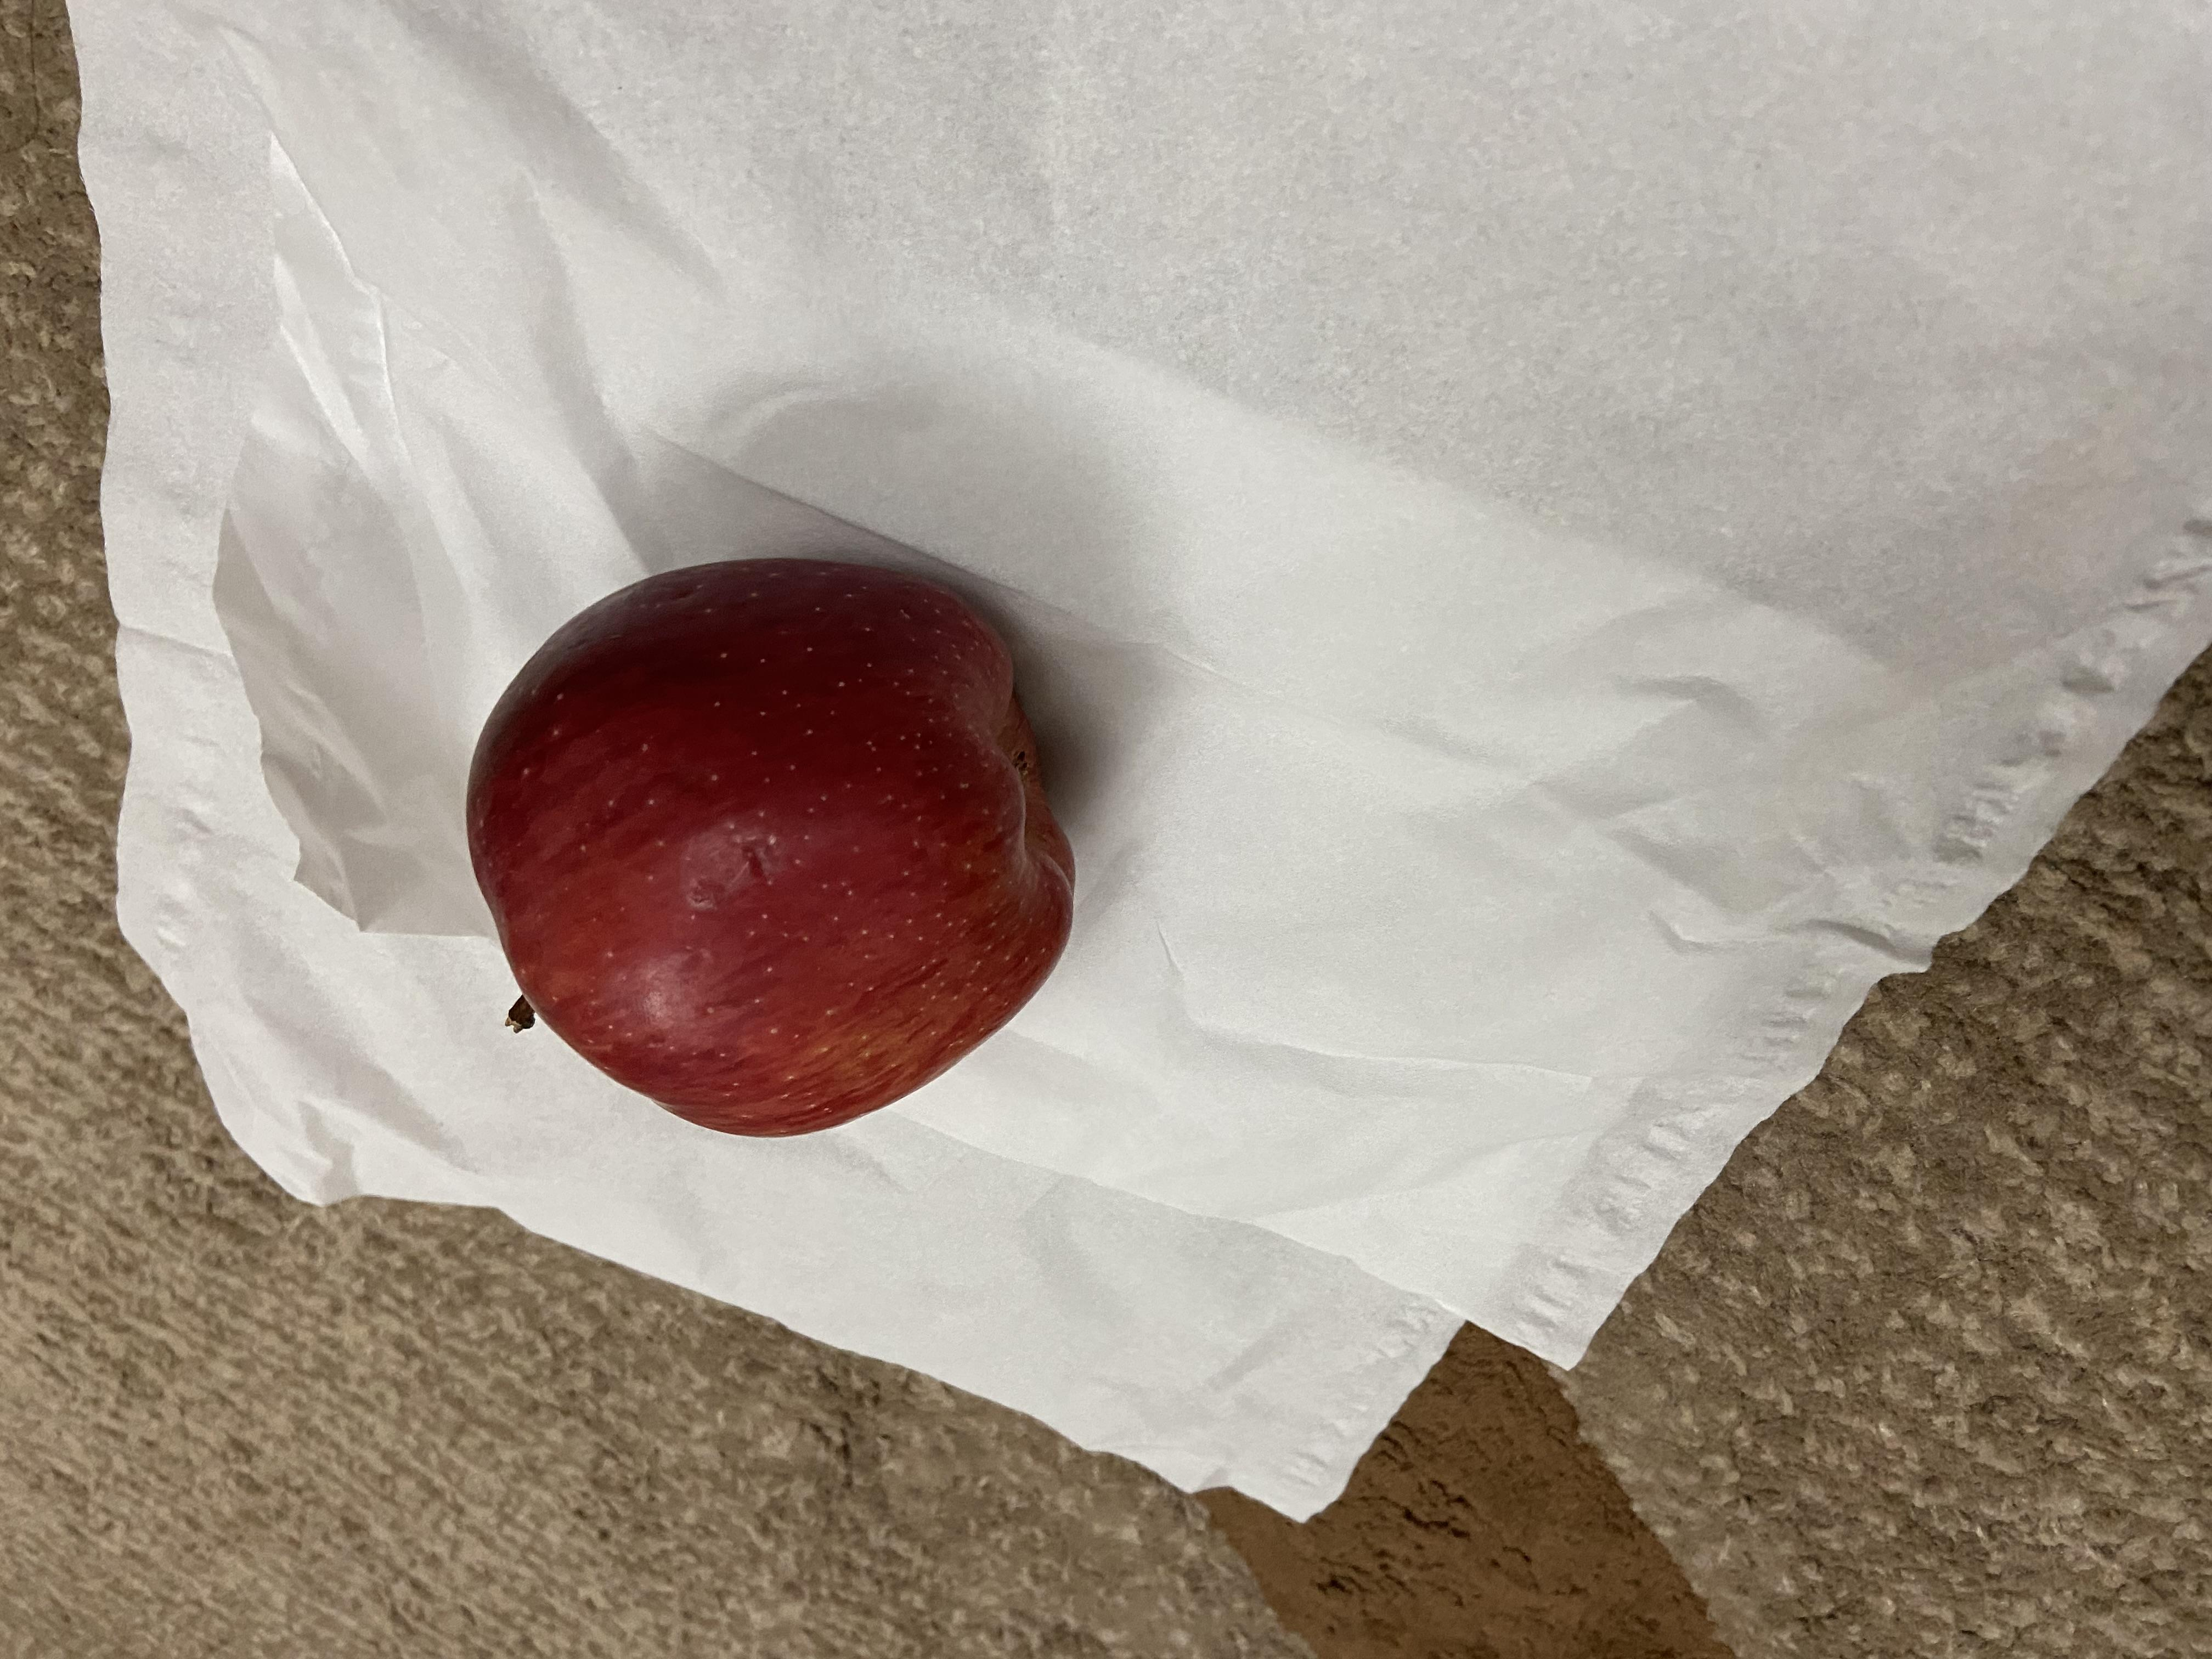Apple: (453, 532, 1099, 1147)
